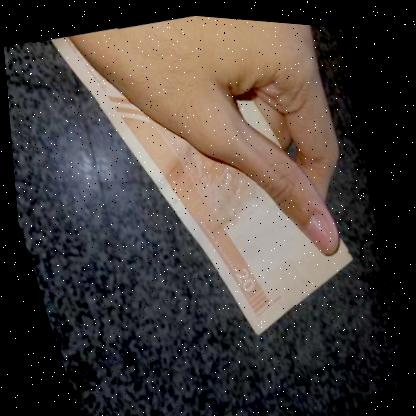twenty-back-vef: (46, 3, 369, 365)
